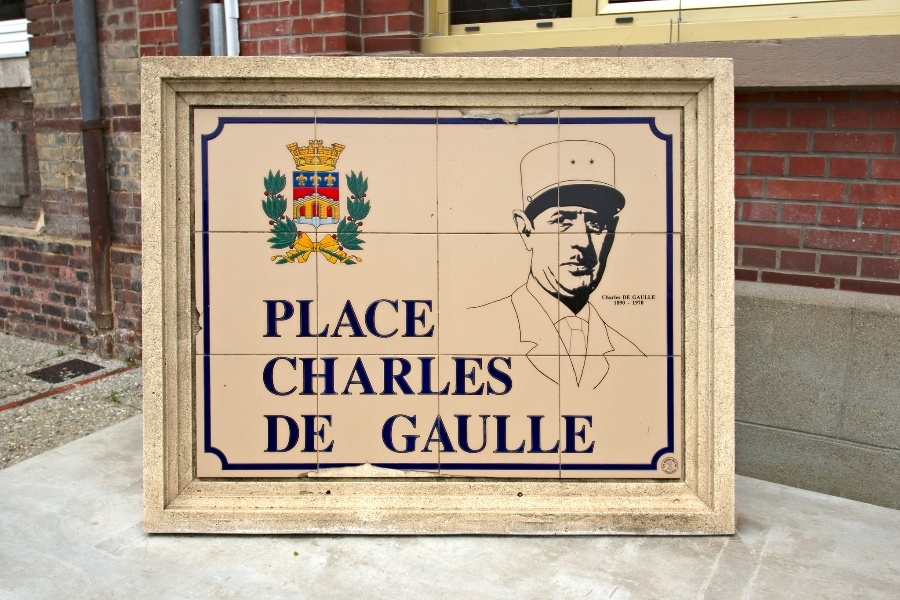text: (273, 412, 288, 455), (289, 412, 304, 455), (305, 412, 320, 455), (321, 412, 336, 455), (497, 356, 513, 396), (273, 298, 288, 339), (289, 298, 304, 339), (305, 298, 320, 339), (321, 298, 336, 339), (337, 298, 352, 339), (353, 298, 368, 339), (369, 298, 384, 339), (385, 298, 400, 339), (401, 298, 416, 339), (417, 298, 432, 339), (385, 414, 400, 455), (401, 414, 416, 455), (417, 414, 432, 455), (433, 414, 448, 455), (449, 414, 464, 455), (465, 414, 480, 455), (481, 414, 496, 455), (497, 414, 512, 455), (513, 414, 528, 455), (529, 414, 544, 455), (545, 414, 560, 455), (561, 414, 576, 455), (577, 414, 592, 455), (273, 356, 288, 396), (289, 356, 304, 396), (305, 356, 320, 396), (321, 356, 336, 396), (337, 356, 352, 396), (353, 356, 368, 396), (369, 356, 384, 396), (385, 356, 400, 396), (401, 356, 416, 396), (417, 356, 432, 396), (433, 356, 448, 396), (449, 356, 464, 396), (465, 356, 480, 396), (481, 356, 496, 396), (263, 412, 272, 455), (263, 298, 272, 339), (264, 356, 272, 396), (593, 414, 597, 455), (433, 298, 436, 339), (382, 414, 384, 455), (641, 295, 656, 300), (609, 295, 621, 300), (632, 295, 640, 300), (614, 301, 624, 305), (632, 301, 640, 306), (628, 302, 640, 305), (601, 295, 608, 300), (625, 295, 631, 300), (641, 301, 644, 306), (622, 295, 624, 300)
